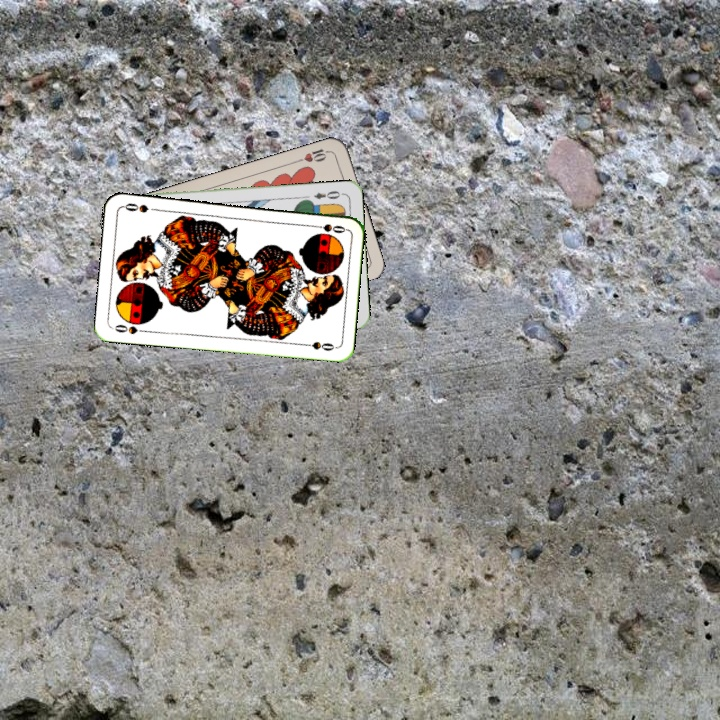EO: (310, 187, 346, 202)
H10: (294, 144, 333, 165)
SO: (307, 220, 348, 236), (109, 321, 150, 336)
